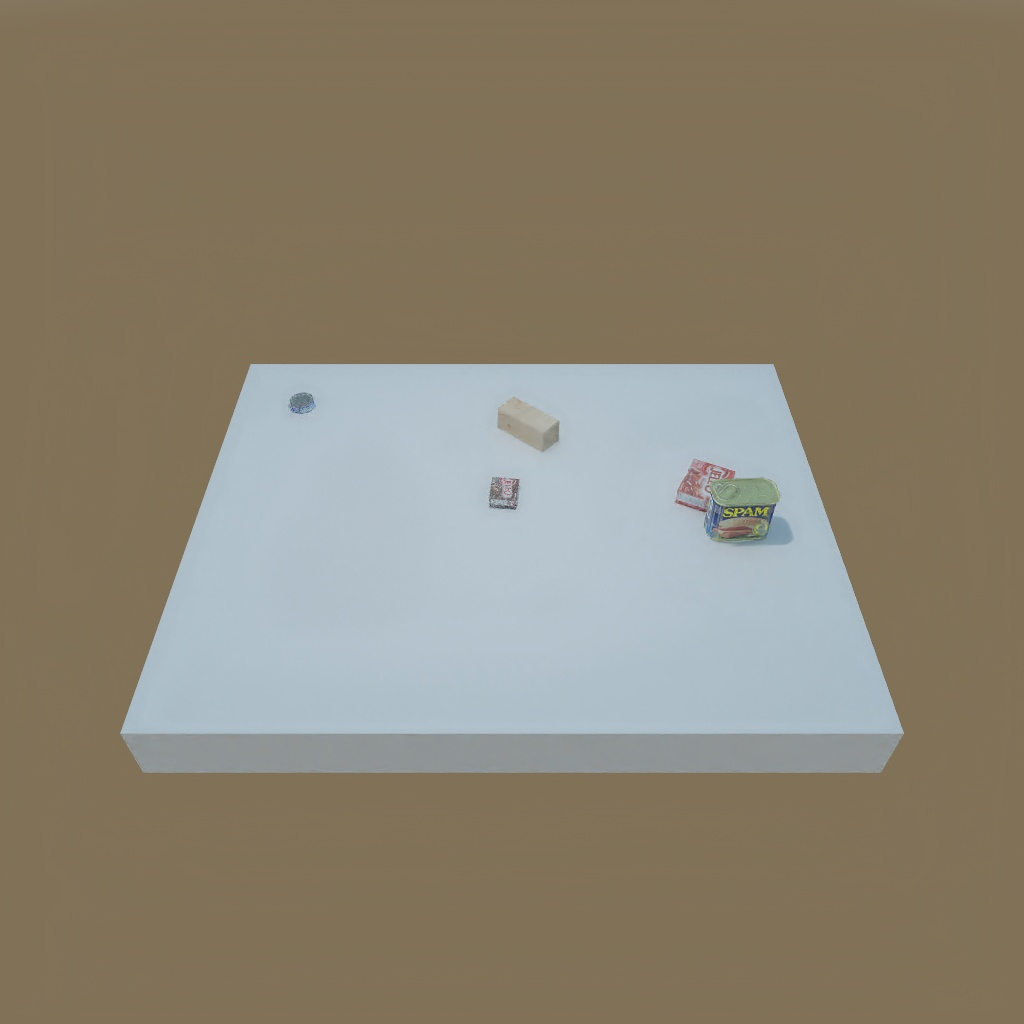gelatin_box: (676, 459, 736, 512)
potted_meat_can: (707, 476, 773, 547)
pudding_box: (484, 469, 523, 512)
wood_block: (491, 396, 565, 450)
